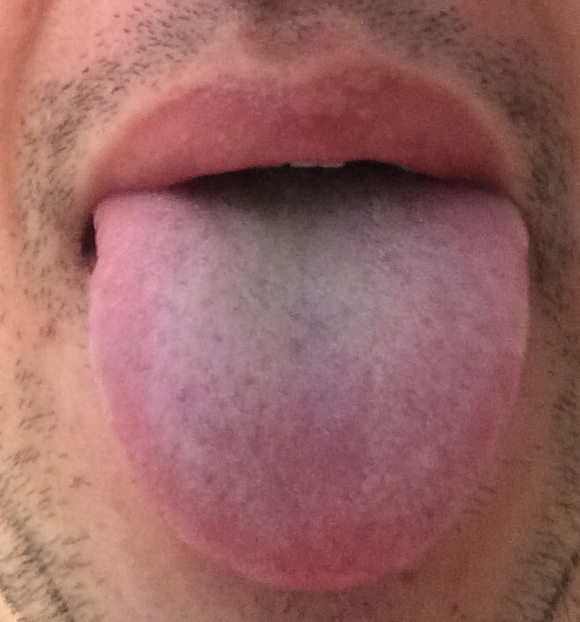baitaishe: (90, 187, 528, 591)
hongshe: (89, 187, 527, 591)
